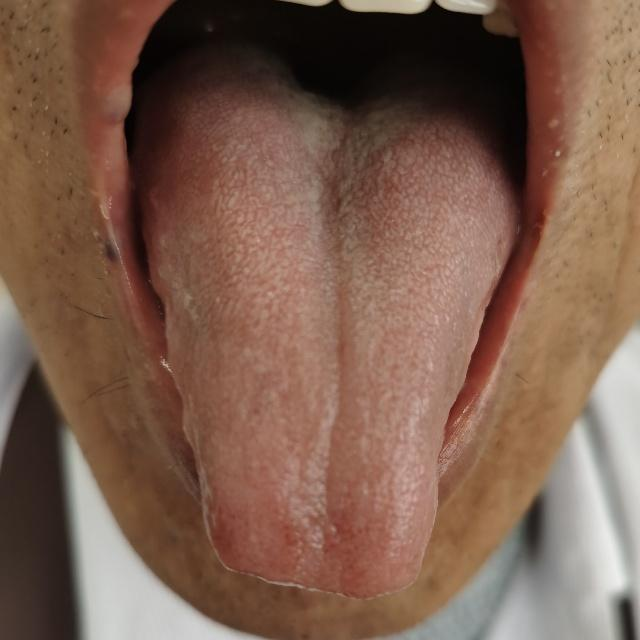baitaishe: (141, 103, 519, 600)
